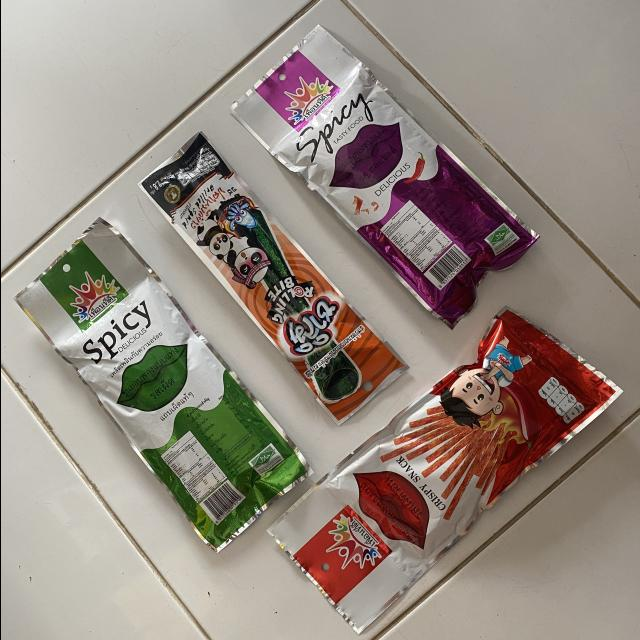plastik: (268, 309, 620, 633), (15, 220, 310, 551), (231, 27, 536, 327), (138, 133, 405, 424)
